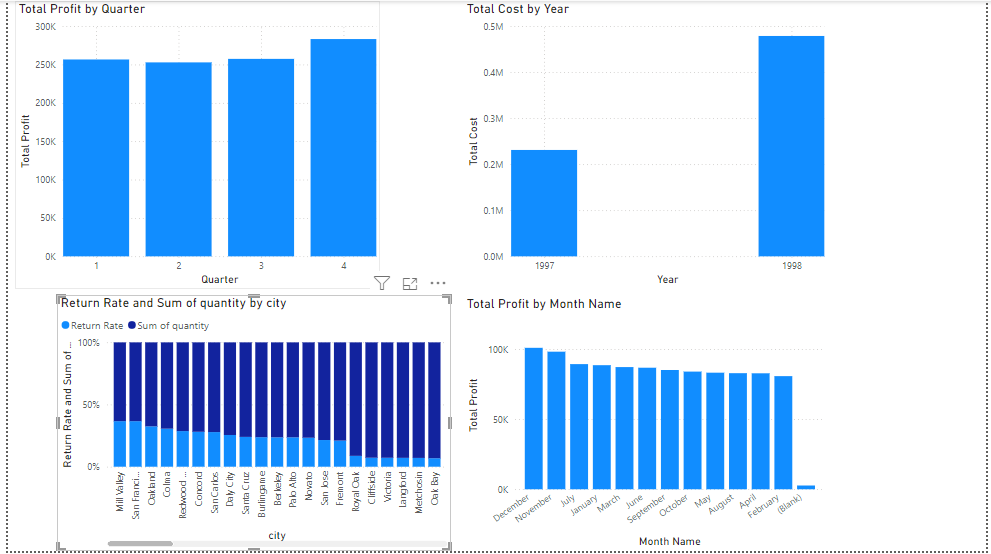

Layout of this report page (visuals, bound fields, positions):
{"tool":"powerbi","page":{"name":"Page 2","canvas":[1280,720],"ordinal":1},"visuals":[{"type":"columnChart","fields":{"Category":["Calendar.Quarter"],"Y":["Transaction_Data.Total Profit"]},"box":[9,0,478.3,377.3],"z":0},{"type":"hundredPercentStackedColumnChart","fields":{"Category":["Customers.city"],"Y":["Return_Data.Return Rate","Sum(Return_Data.quantity)"]},"box":[64.1,384.9,515.8,335.1],"z":1000},{"type":"lineStackedColumnComboChart","fields":{"Y":["Transaction_Data.Total Cost"],"Category":["Calendar.Year"]},"box":[595.1,0,478.3,377.3],"z":2000},{"type":"columnChart","fields":{"Y":["Transaction_Data.Total Profit"],"Category":["Calendar.Month Name"]},"box":[595,386,478,334],"z":3000}]}

Visuals, with their boxes in screenshot pixels (x1, y1, x2, y2), scaled from the page's 1280x720 canvas onto the 991x554 screenshot:
columnChart - Calendar.Quarter x Transaction_Data.Total Profit: locate(7, 0, 377, 290)
hundredPercentStackedColumnChart - Customers.city x Return_Data.Return Rate: locate(50, 296, 449, 553)
lineStackedColumnComboChart - Transaction_Data.Total Cost x Calendar.Year: locate(461, 0, 831, 290)
columnChart - Transaction_Data.Total Profit x Calendar.Month Name: locate(461, 297, 831, 553)
